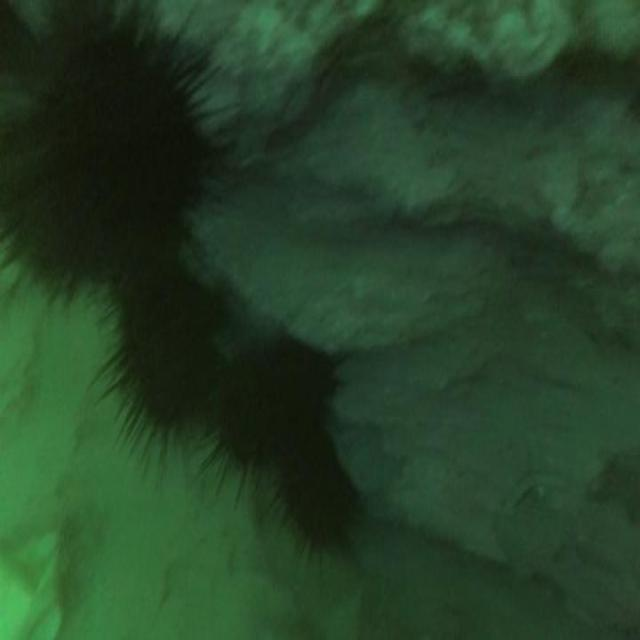echinus: (0, 0, 224, 324), (77, 284, 247, 496), (204, 329, 356, 512), (265, 427, 379, 572)
